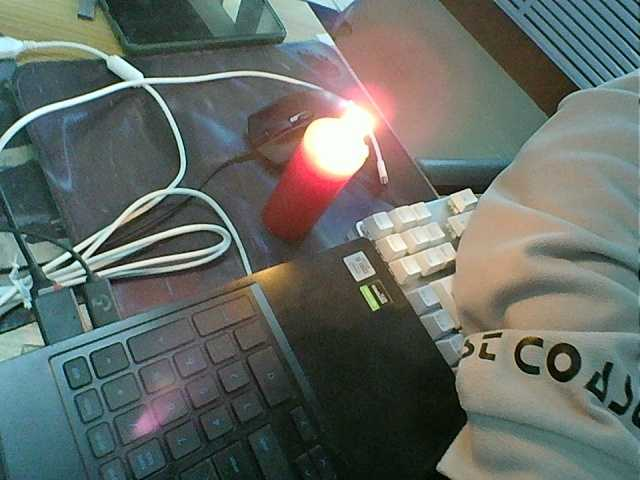candle: (261, 131, 362, 258)
fire: (296, 84, 392, 173)
